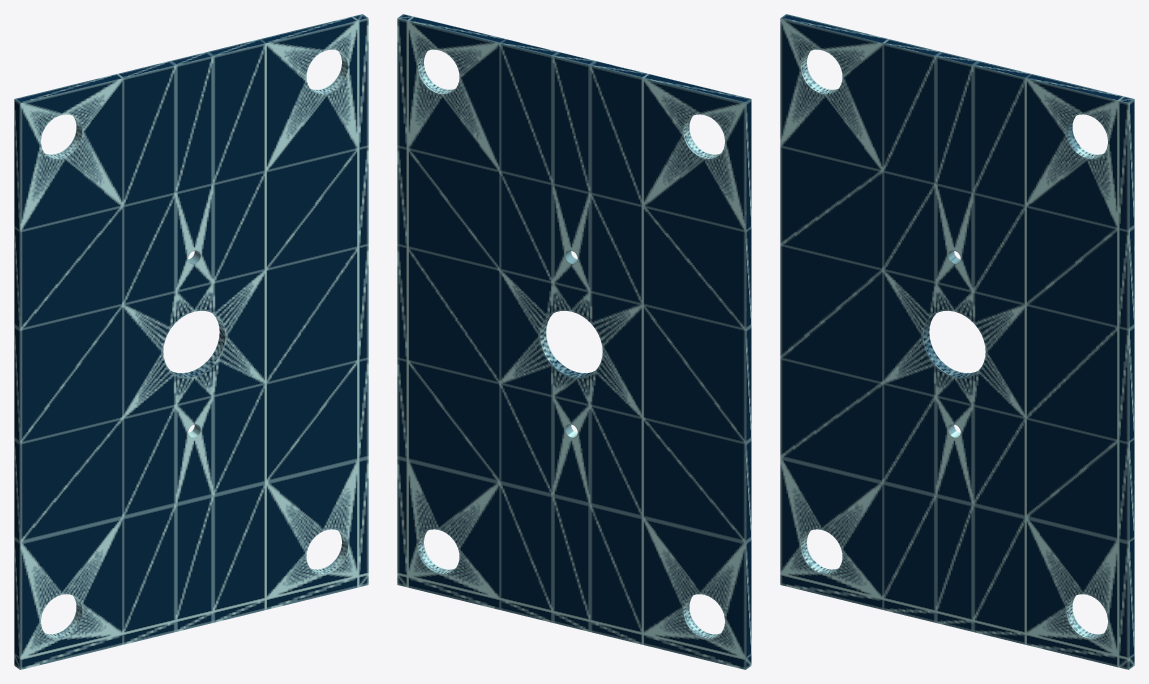
File: Mold4-Plate-M.glb
The picture shows the model from 3 angles, left to right: view 1: azimuth 30°, elevation 25°; view 2: azimuth 150°, elevation 25°; view 3: azimuth 330°, elevation 25°; orthographic projection.
Parts seen in each view (by area): view 1: GERGTGQ - PORTE EJECTEUR-1; view 2: GERGTGQ - PORTE EJECTEUR-1; view 3: GERGTGQ - PORTE EJECTEUR-1.
Boxes of the visible parts, x1,y1,x2,y2 form: GERGTGQ - PORTE EJECTEUR-1: (14, 14, 368, 669); GERGTGQ - PORTE EJECTEUR-1: (397, 14, 751, 669); GERGTGQ - PORTE EJECTEUR-1: (780, 14, 1134, 669).
Size of the model in its own units: 5.98 by 9.29 by 0.178.
Materials: 1 (1 with a texture image).
